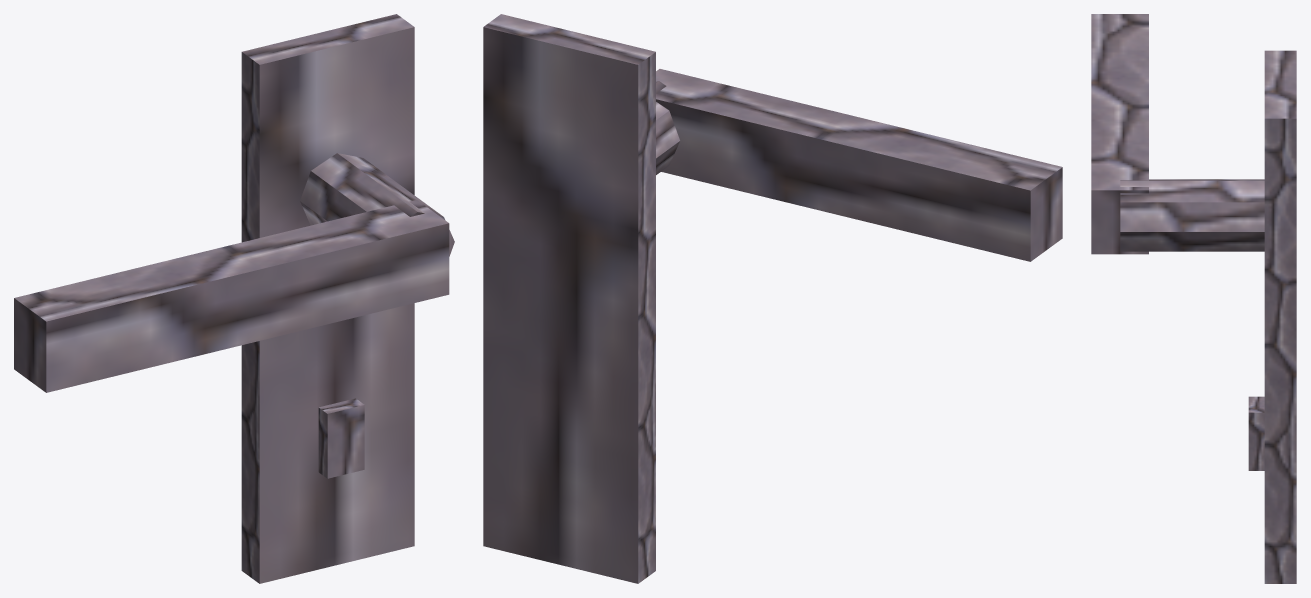
The model's file is Door_Handle.fbx.
The picture shows the model from 3 angles, left to right: view 1: azimuth 30°, elevation 25°; view 2: azimuth 150°, elevation 25°; view 3: azimuth 270°, elevation 25°; orthographic projection. The views are drawn at different scales.
Visible parts, largest first — view 1: Door_Handle; view 2: Door_Handle; view 3: Door_Handle.
Part boxes in pixels (box(x1,y1,x2,y2)): Door_Handle: box(14, 14, 454, 583); Door_Handle: box(483, 14, 1062, 583); Door_Handle: box(1091, 14, 1296, 583).
Size of the model in its own units: 0.15 by 0.16 by 0.064.
